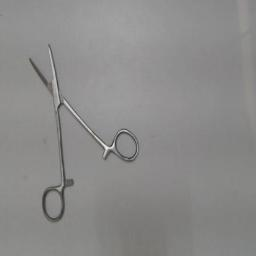Mayo Needle Holder: (22, 35, 142, 225)
